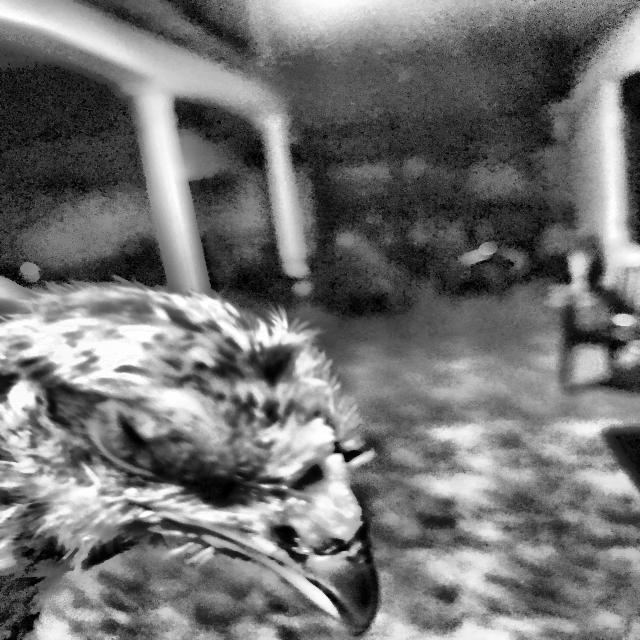Coryza: (22, 275, 426, 640)
